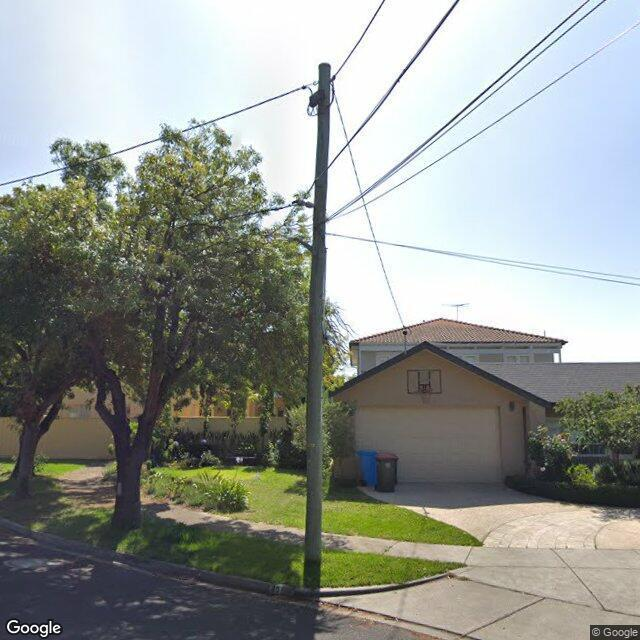timber-pole: (302, 61, 332, 562)
